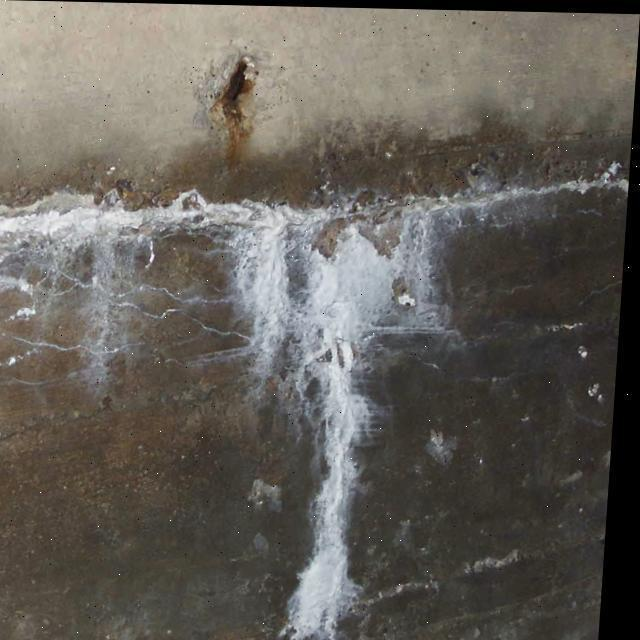D01: (18, 183, 584, 639)
